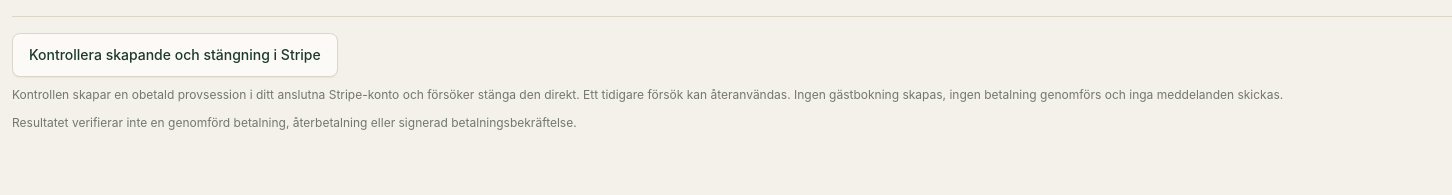
Test case: explicit owner Stripe create-and-close check › deduplicates pending clicks and allows an explicit follow-up without request identity/client flags
Later steps or results of the test are not shown.
Click the button "Kontrollera skapande och stängning i Stripe" at x=175, y=55, box [12,33,338,77]
Click the button "Kontrollera skapande och stängning i Stripe" at x=175, y=55, box [12,33,338,77]
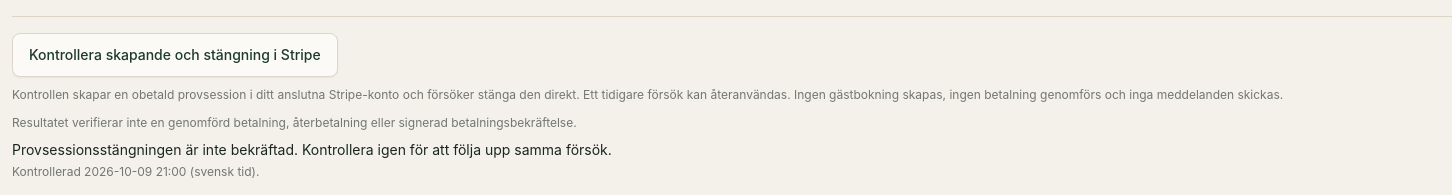
Expected: the text "Provsessionsstängningen är inte bekräftad" is shown, [12,141,612,158]
